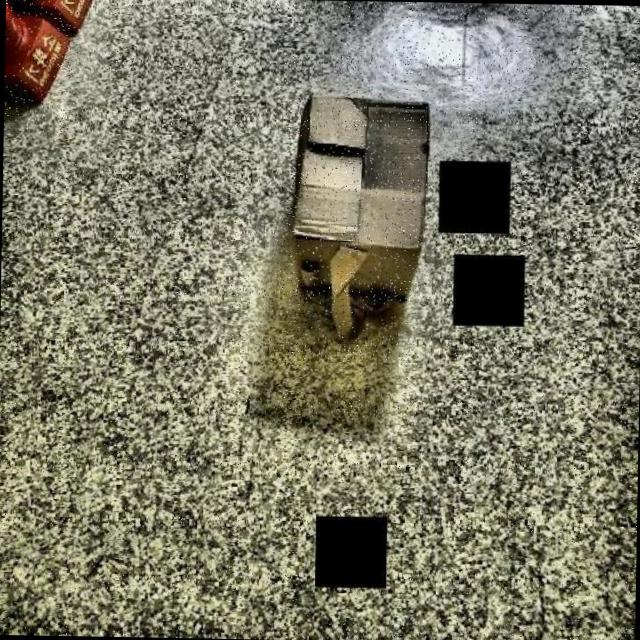box: (269, 82, 438, 315)
